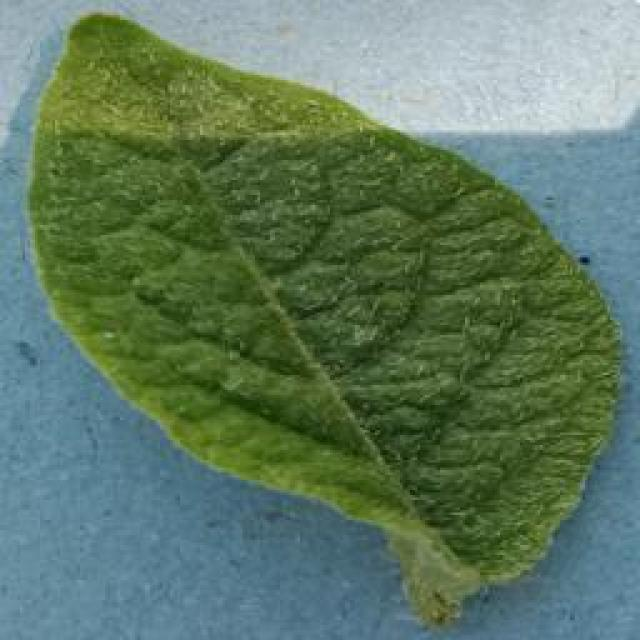Potato_Healthy: (21, 8, 634, 632)
